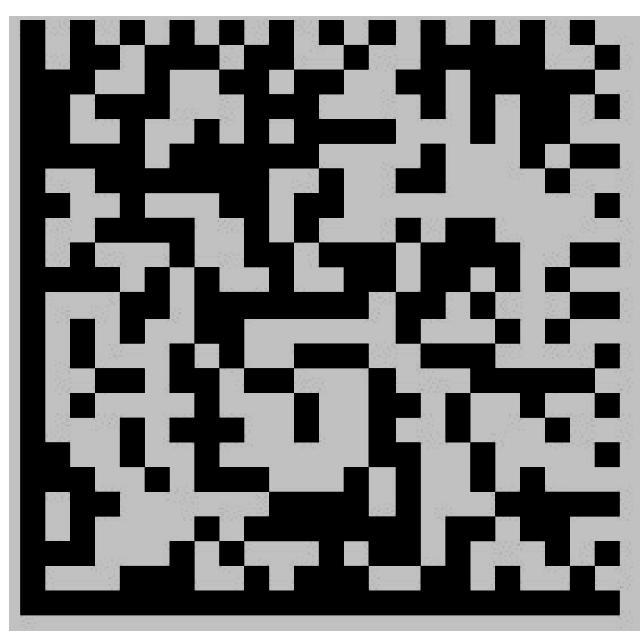Data-Matrix: (9, 16, 640, 631)
